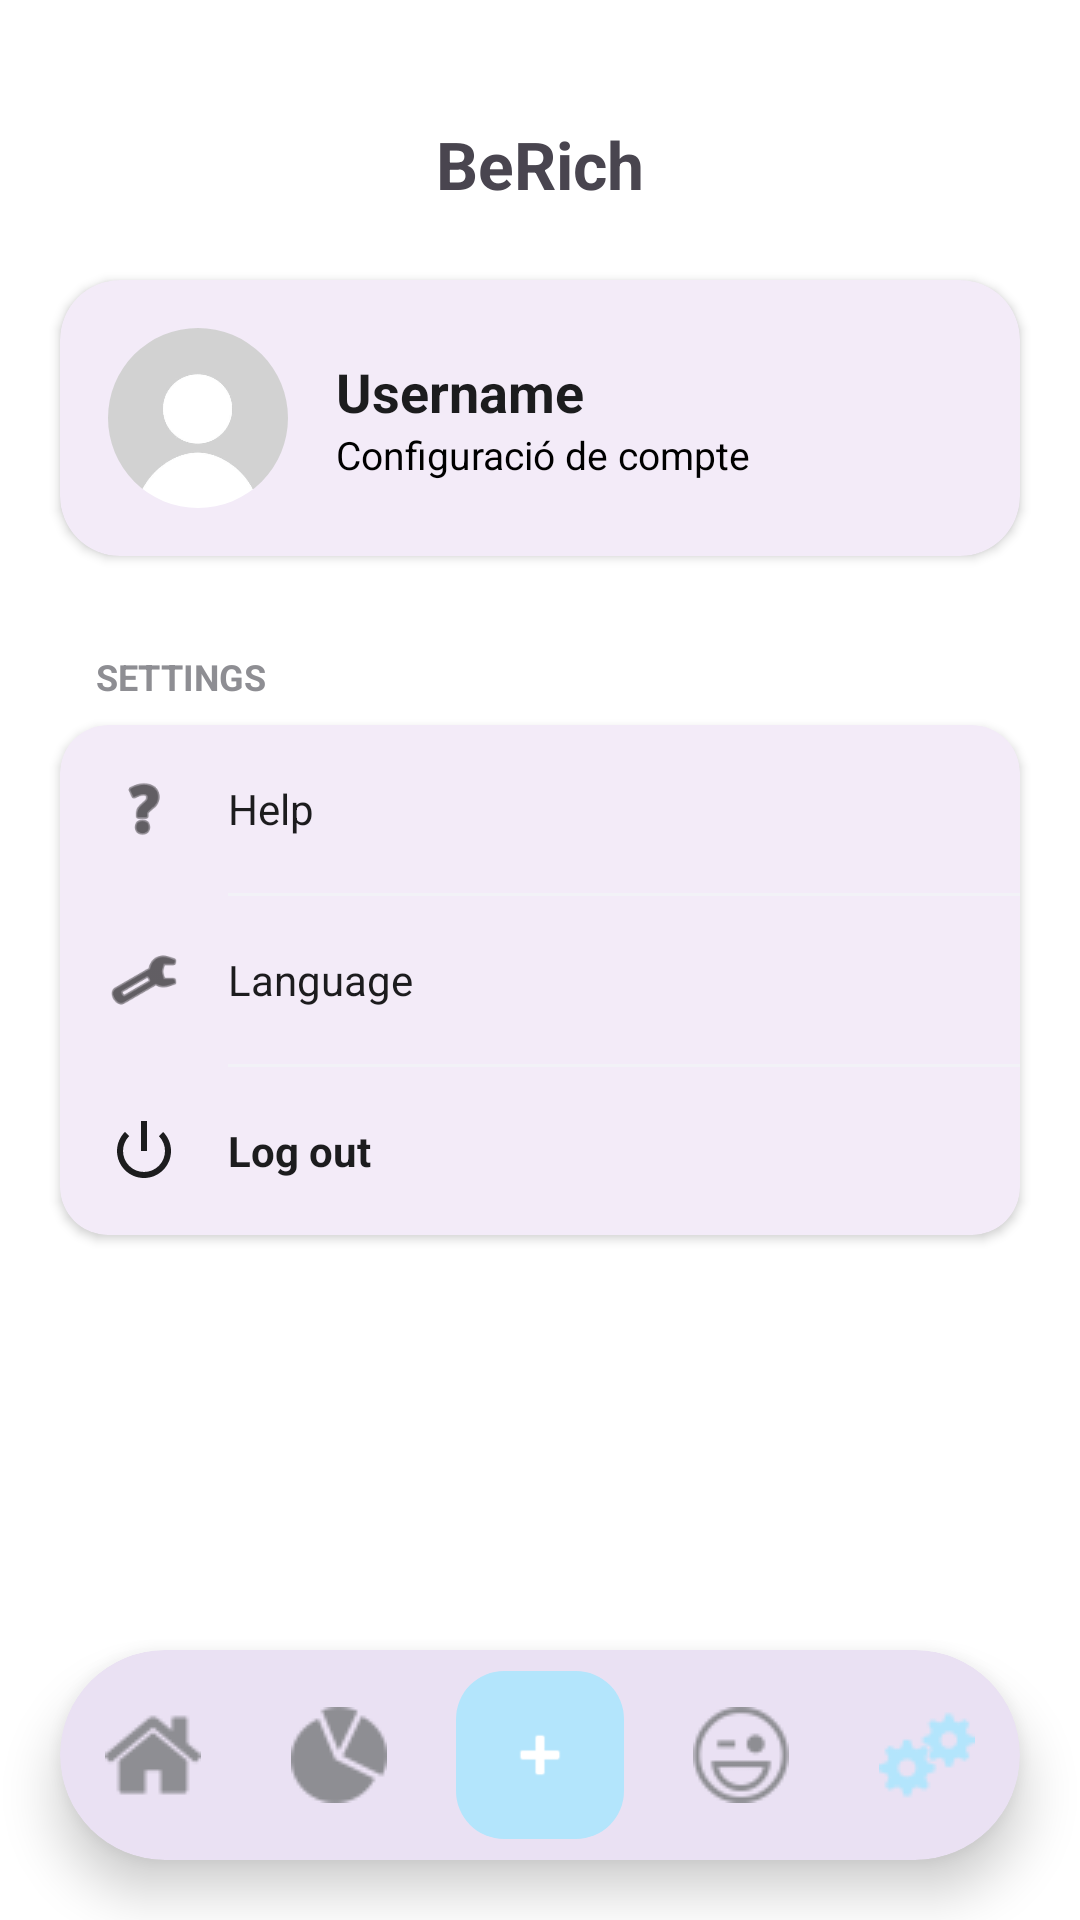

Point at icon controls on the screen. Image size 1080x1920, points as (x,y).
add: (540,1755)
chart: (339,1755)
face: (741,1755)
lock power off: (144,1149)
manage: (143,980)
perfil: (198,408)
